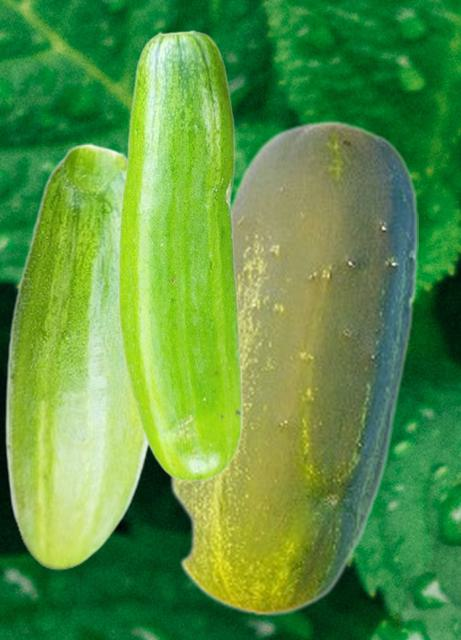cucumber: (168, 119, 417, 616), (4, 143, 150, 569), (118, 29, 242, 481)
